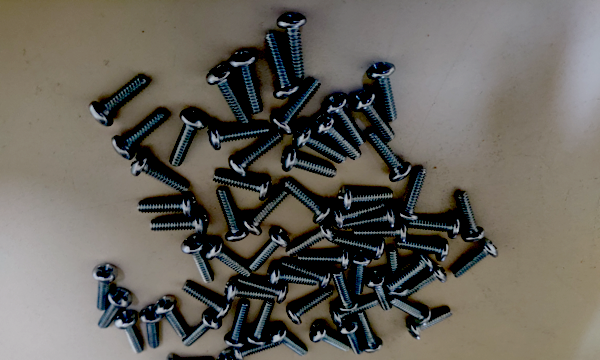shortscrew: (89, 74, 150, 128), (111, 108, 169, 160), (270, 77, 321, 134), (207, 65, 251, 126), (130, 152, 192, 193), (229, 132, 283, 178), (242, 186, 289, 237), (351, 89, 396, 142), (266, 32, 301, 100), (314, 113, 363, 161), (367, 131, 412, 183), (169, 109, 208, 167), (283, 180, 333, 224), (324, 94, 365, 147), (293, 125, 347, 165), (230, 50, 263, 115), (247, 227, 290, 273), (278, 12, 307, 80), (212, 169, 272, 201), (452, 239, 499, 279), (182, 282, 232, 319), (281, 146, 338, 178), (387, 252, 434, 290), (396, 166, 428, 221), (217, 187, 249, 242), (286, 221, 336, 256), (368, 61, 397, 121), (287, 289, 335, 325), (208, 123, 270, 150), (181, 235, 215, 284), (138, 193, 197, 220), (235, 276, 289, 305), (407, 306, 453, 340), (183, 309, 223, 348), (400, 265, 447, 298), (332, 201, 386, 229), (456, 191, 485, 243), (330, 298, 382, 327), (150, 212, 208, 237), (246, 299, 275, 348), (155, 295, 187, 339), (341, 205, 397, 230), (98, 288, 132, 329), (338, 186, 393, 211), (269, 323, 309, 357), (408, 214, 460, 240), (333, 234, 385, 260), (92, 262, 119, 311), (114, 310, 144, 354), (224, 300, 251, 348), (310, 321, 351, 352), (298, 248, 350, 272), (331, 268, 359, 312), (224, 279, 275, 303), (388, 297, 431, 325), (386, 248, 410, 297), (365, 269, 391, 314), (354, 222, 409, 243), (350, 248, 373, 295), (357, 313, 383, 353), (337, 317, 363, 355), (141, 306, 163, 350), (234, 341, 279, 360), (217, 350, 256, 360), (166, 354, 215, 360)
